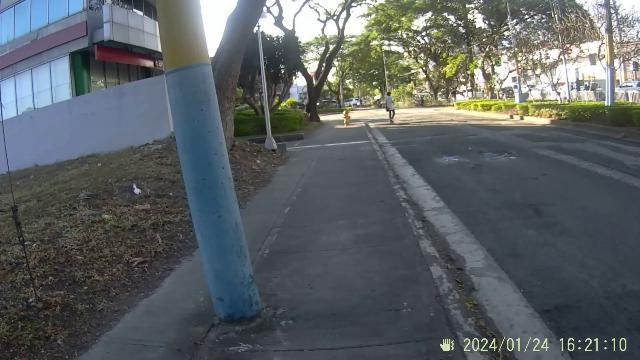utility_post: (153, 1, 274, 336)
